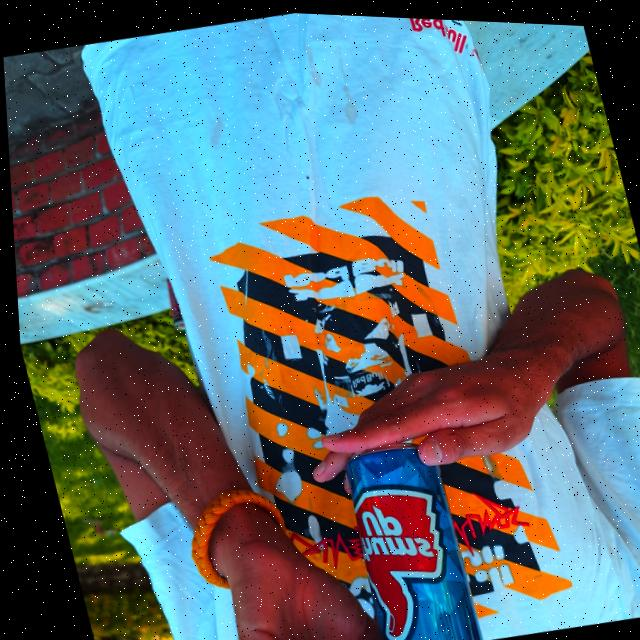Thums Up: (323, 437, 477, 640)
